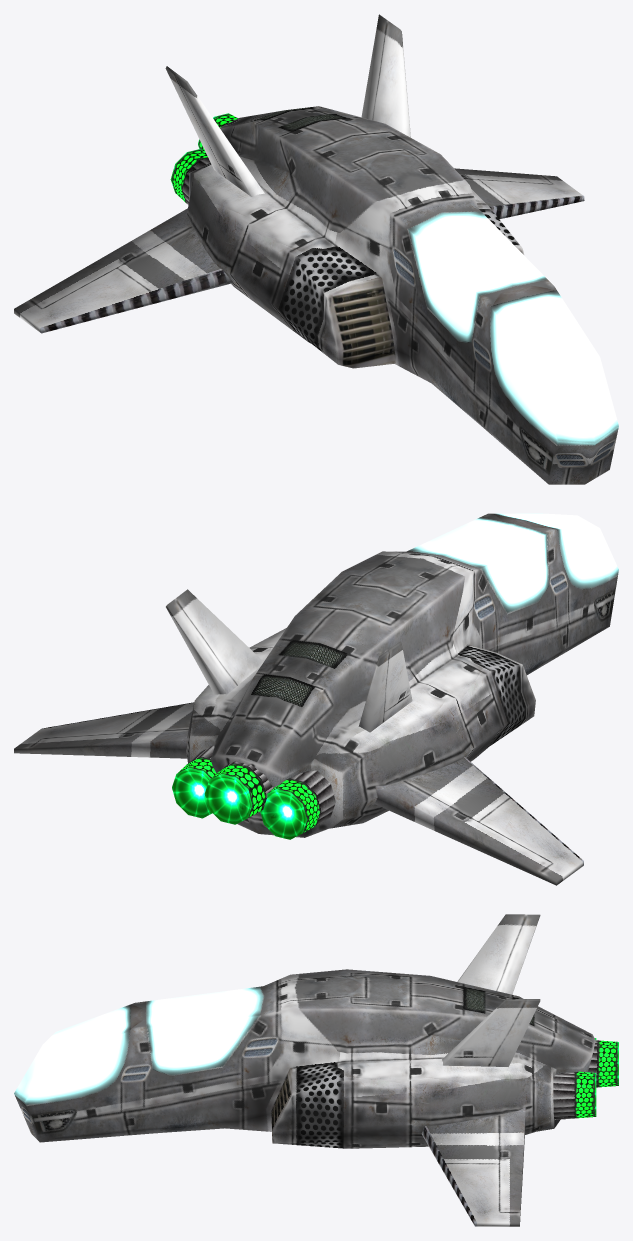
3 views of the same model, one above another, from view 1: azimuth 30°, elevation 25°; view 2: azimuth 150°, elevation 25°; view 3: azimuth 270°, elevation 25° (orthographic). The views are drawn at different scales.
Parts seen in each view (by area): view 1: Spaceship7; view 2: Spaceship7; view 3: Spaceship7.
Part boxes in pixels (x1,y1,x2,y2): Spaceship7: (14,14,618,484); Spaceship7: (14,513,618,885); Spaceship7: (14,914,618,1226).
Bounding box in the file's own units: 32.09 × 12.22 × 37.93.
Materials: 1 (1 with a texture image).
